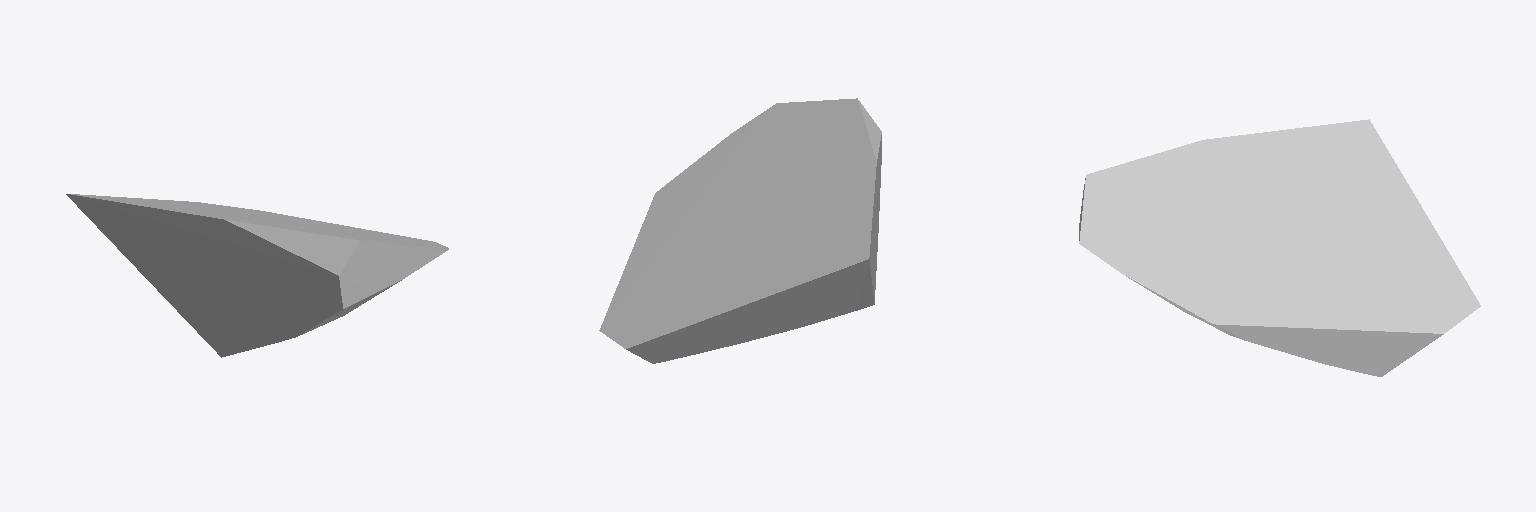
Rendered from Sphere_Cell_Fracture33.obj.
3 renders of one model, left to right at view 1: azimuth 30°, elevation 25°; view 2: azimuth 150°, elevation 25°; view 3: azimuth 270°, elevation 25°, orthographic.
Size of the model in its own units: 0.4945 by 0.2743 by 0.5903.